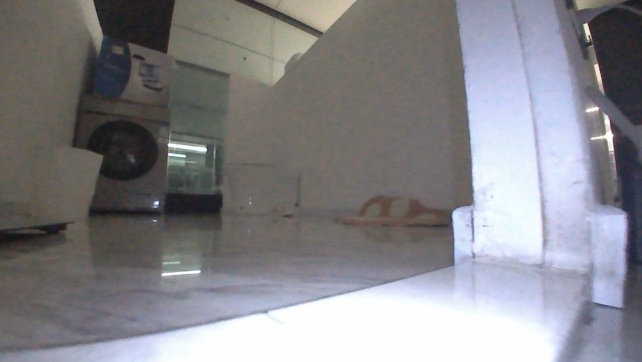slipper: (332, 192, 450, 230)
toilet: (220, 156, 301, 216)
trash_can: (28, 142, 104, 218)
washing_machine: (70, 90, 174, 216)
weight_scale: (0, 216, 75, 237)
